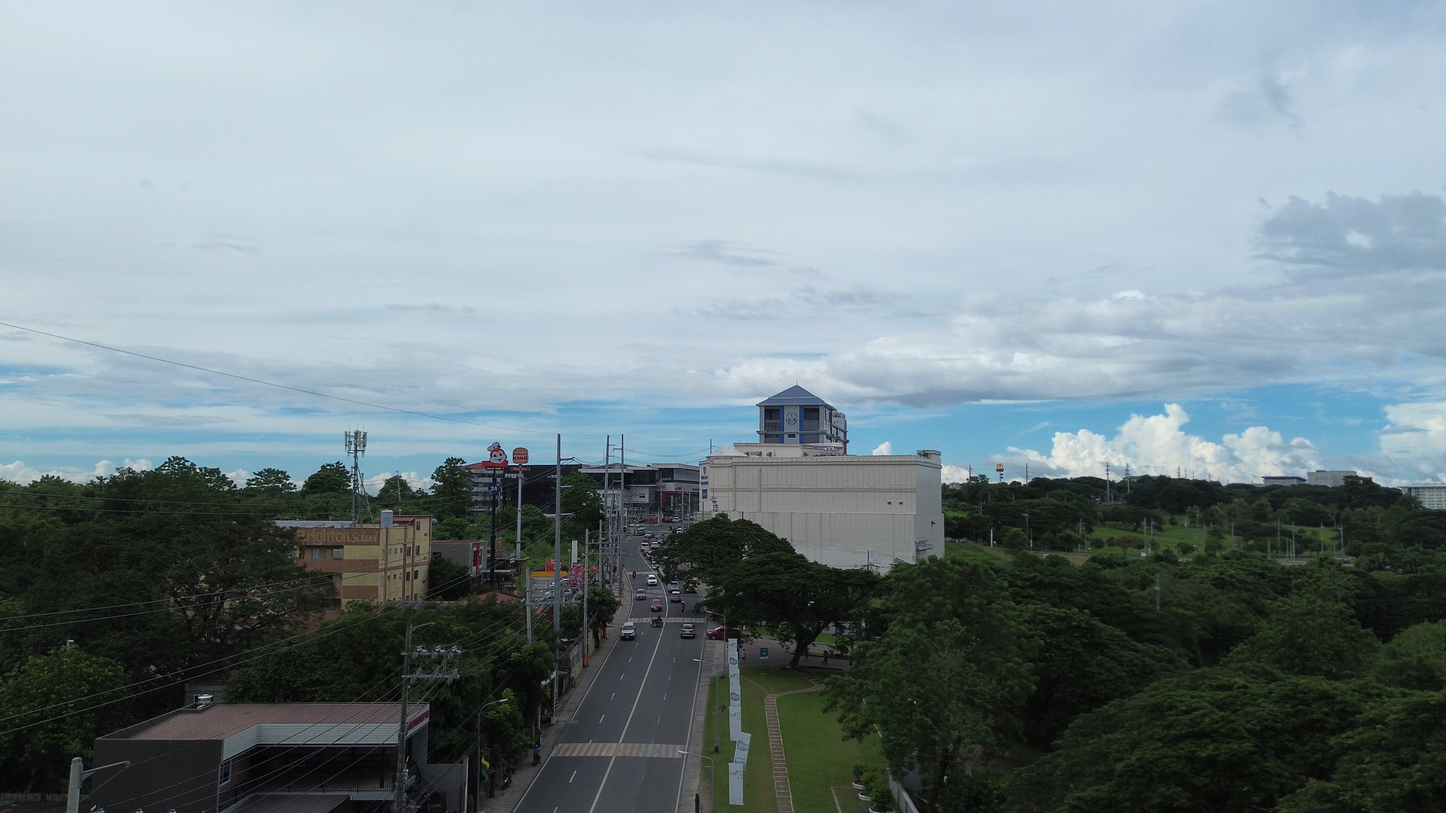car: (650, 600, 663, 612), (635, 589, 647, 600)
vehicle: (620, 621, 636, 640), (705, 626, 725, 640), (680, 624, 695, 638), (684, 577, 697, 592), (669, 589, 682, 603), (646, 574, 659, 586), (651, 617, 664, 627), (669, 580, 680, 589)
